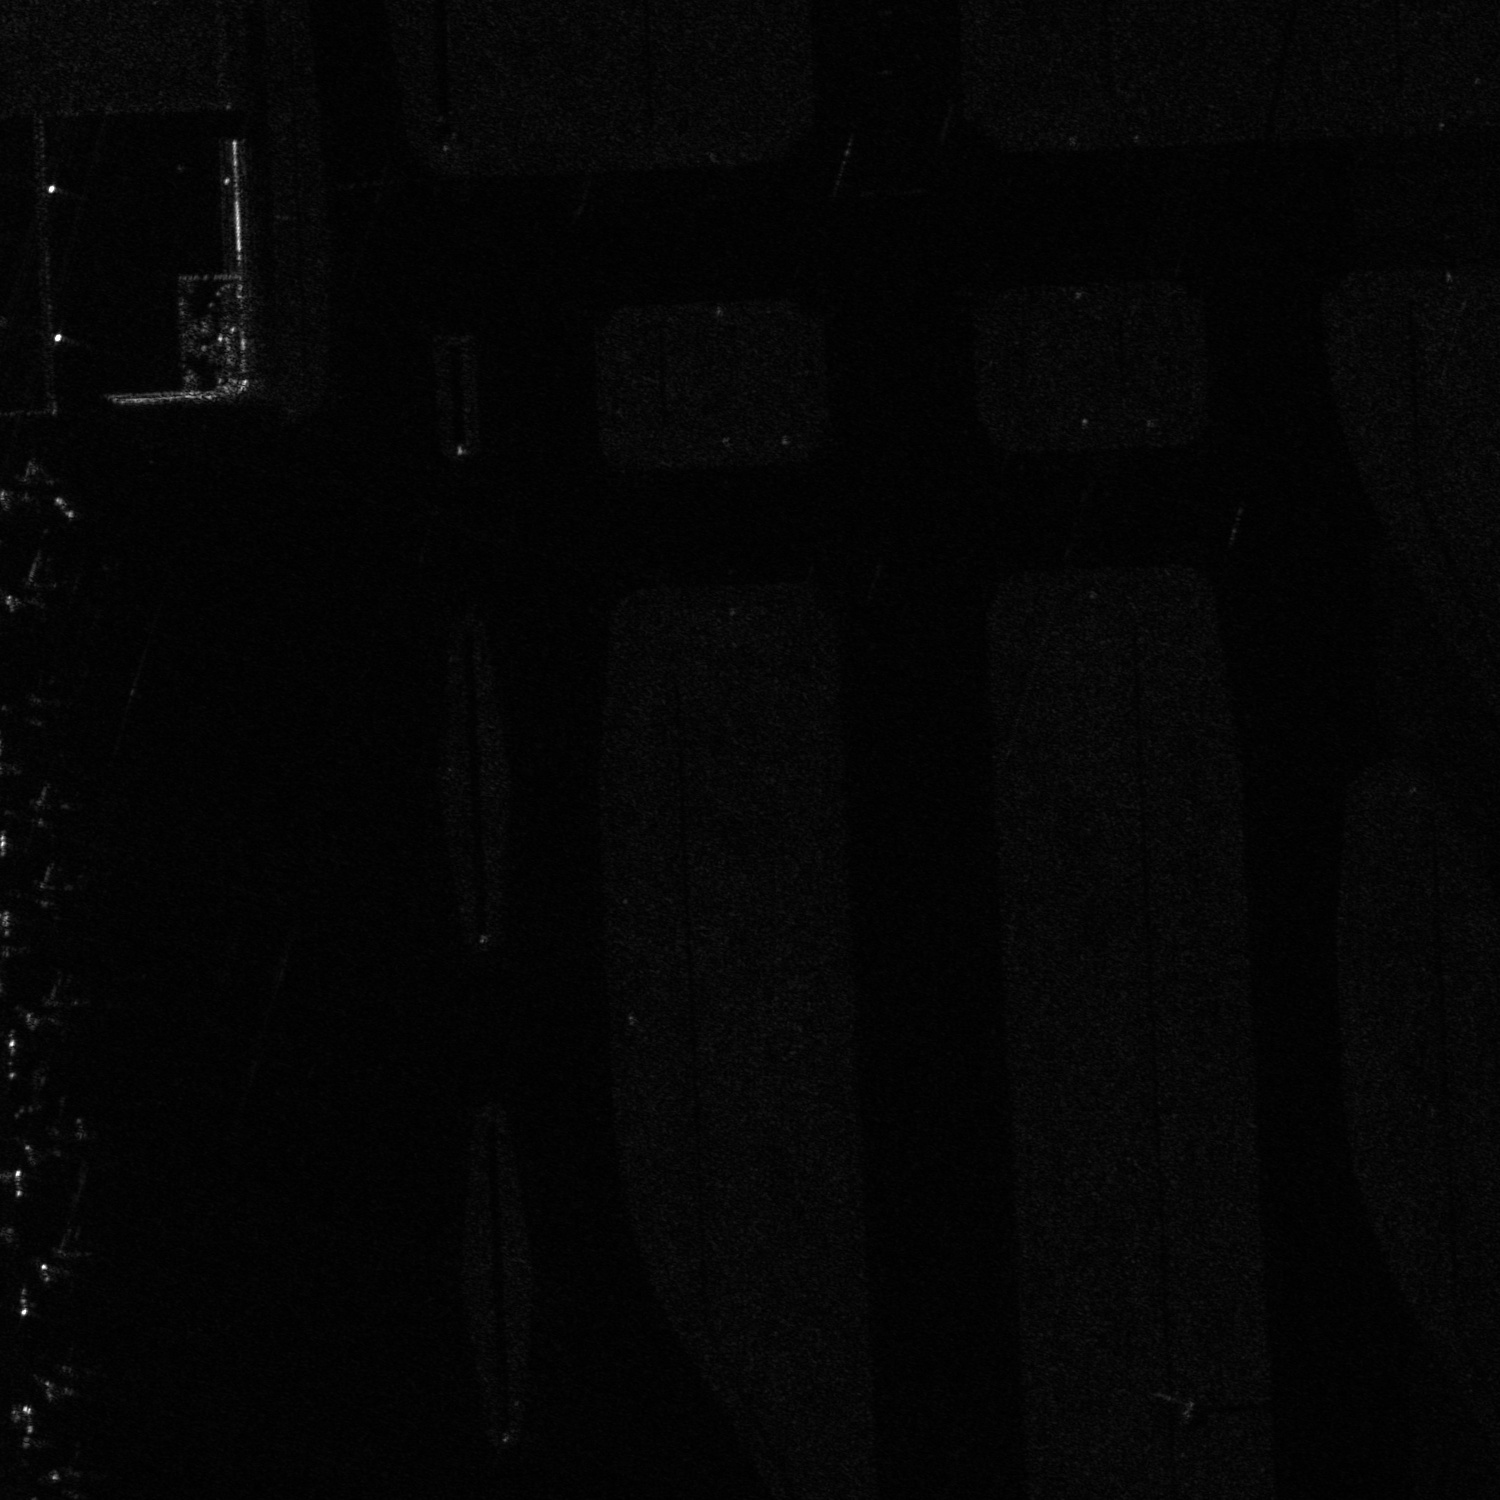A220: (23, 1096, 103, 1168), (16, 970, 92, 1038)
A320/321: (5, 854, 85, 918), (1, 544, 69, 615), (1, 776, 77, 835)
other: (25, 1221, 104, 1294), (22, 1353, 91, 1411)
